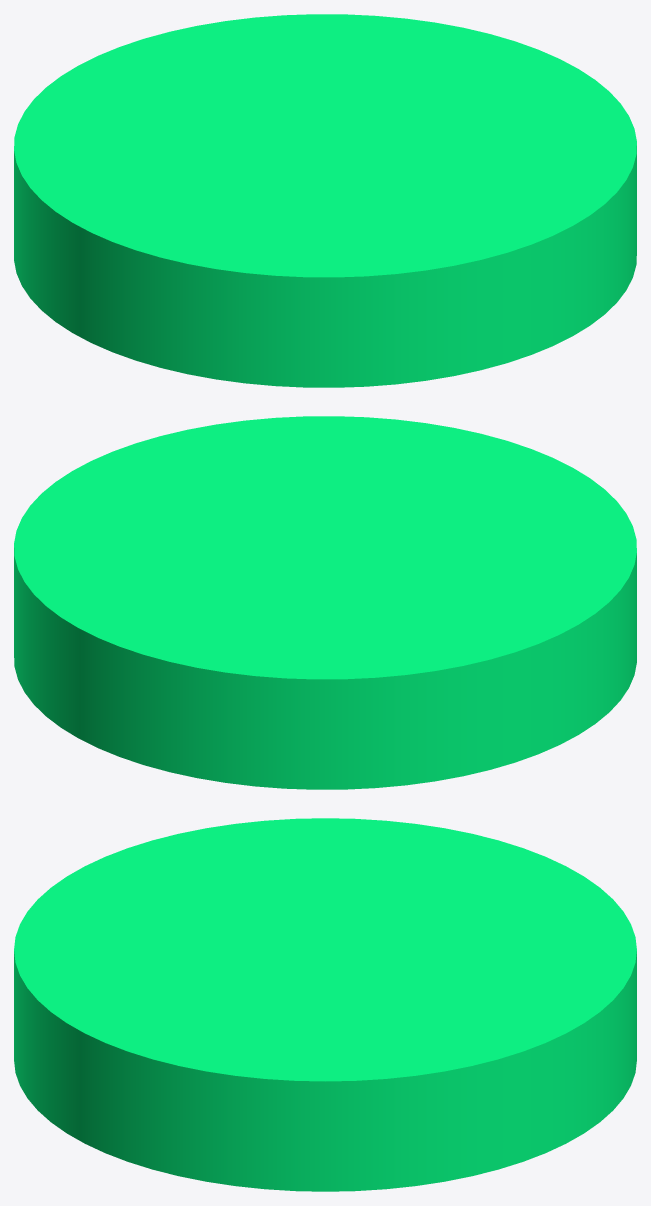
The model's file is cylinder_ar_universal.glb.
3 renders of one model, top to bottom at view 1: azimuth 30°, elevation 25°; view 2: azimuth 150°, elevation 25°; view 3: azimuth 270°, elevation 25°, orthographic.
Visible parts, largest first — view 1: cylinder_ar; view 2: cylinder_ar; view 3: cylinder_ar.
Part boxes in pixels (x1,y1,x2,y2): cylinder_ar: (14,14,636,387); cylinder_ar: (14,416,636,789); cylinder_ar: (14,818,636,1191).
Size of the model in its own units: 1 by 0.1953 by 1.
